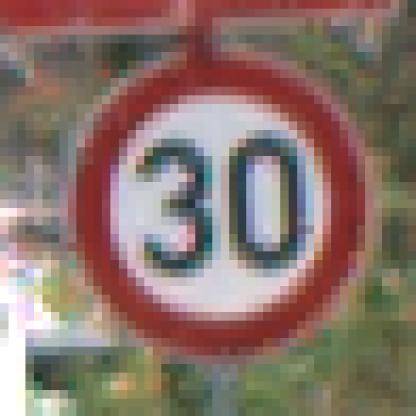Speed Limit 30: (78, 56, 366, 358)
